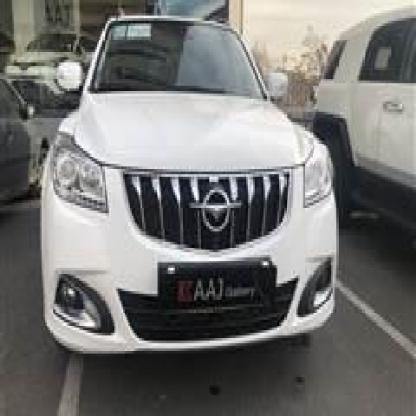Car: (38, 26, 338, 364), (312, 2, 416, 232), (9, 13, 83, 107)
